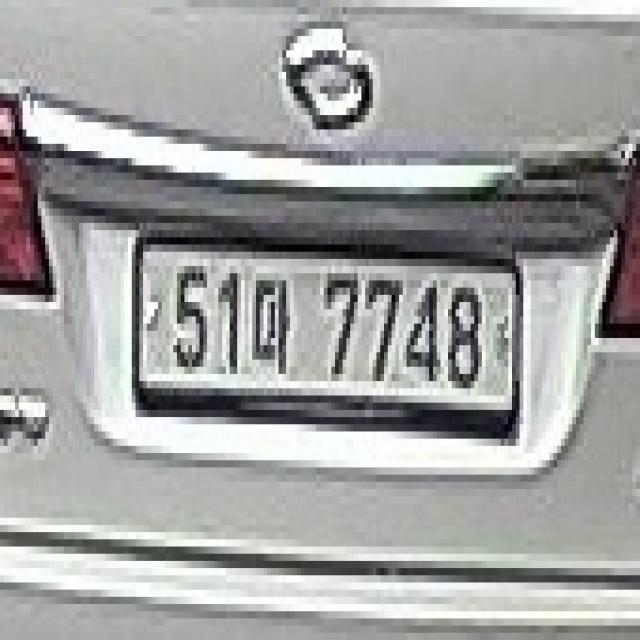1: (214, 262, 244, 378)
4: (406, 267, 440, 394)
5: (170, 257, 209, 374)
7: (315, 258, 359, 387), (362, 264, 402, 387)
8: (444, 272, 484, 398)
license_plate: (124, 212, 526, 454)
ma: (251, 259, 296, 378)
